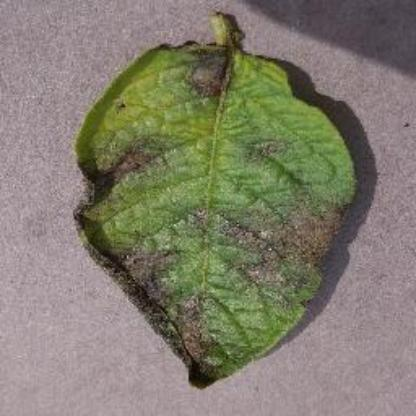Late-Blight: (18, 3, 400, 397)
